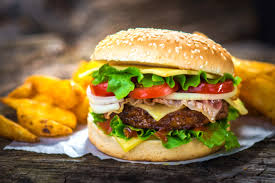hamburger: (86, 26, 239, 163)
